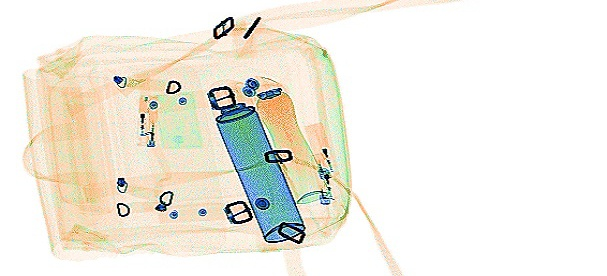lighter: (301, 121, 336, 178), (307, 152, 334, 205), (131, 69, 149, 144), (143, 92, 156, 149)
pressure: (205, 77, 304, 244), (245, 73, 329, 204)
